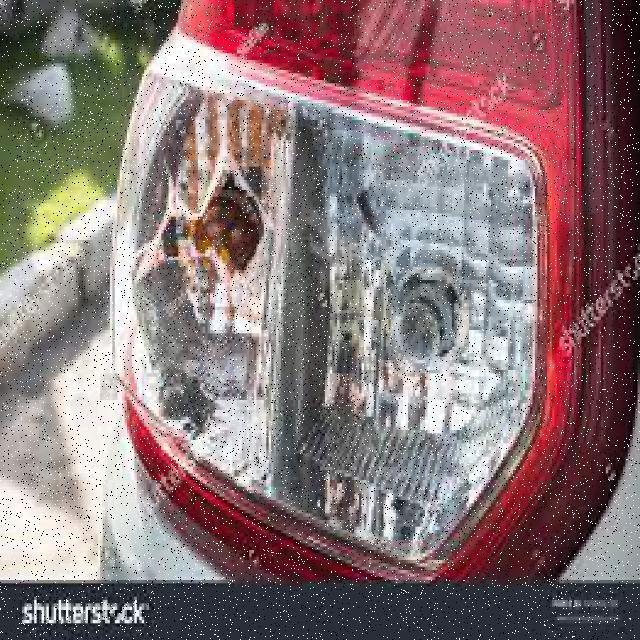door: (98, 33, 550, 567)
